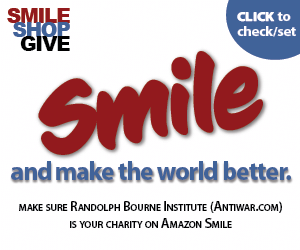fake_button: (21, 48, 271, 159)
